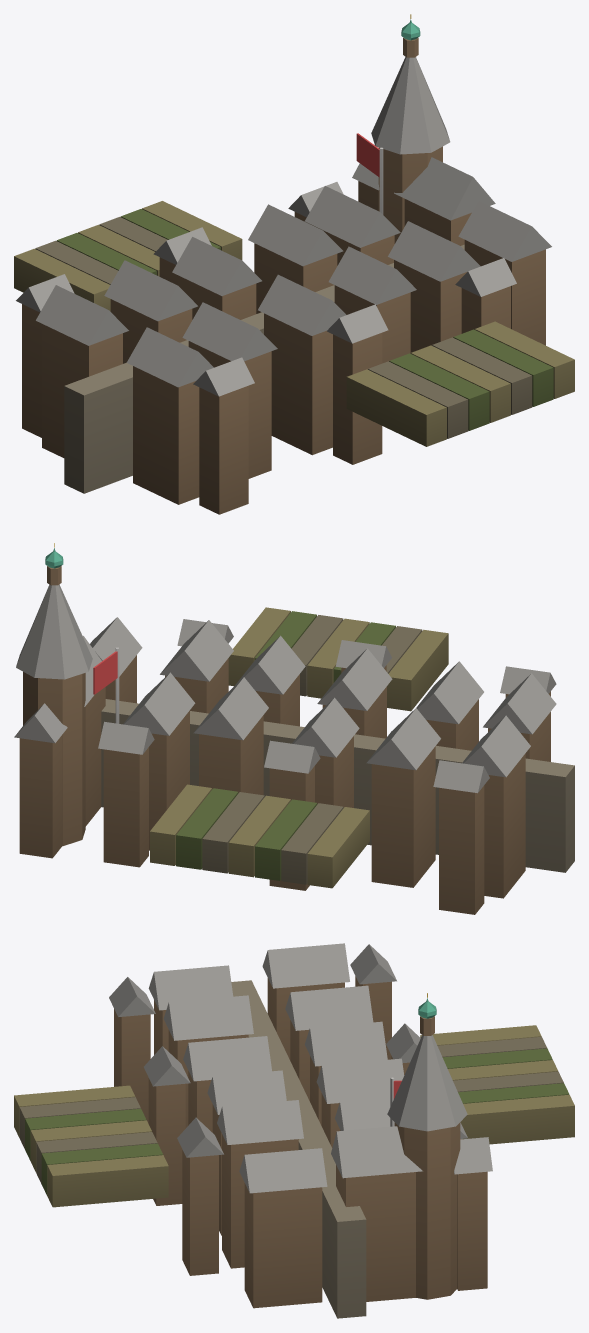
Rendered from village_rus_a.glb.
3 views of the same model, one above another, from view 1: azimuth 30°, elevation 25°; view 2: azimuth 150°, elevation 25°; view 3: azimuth 270°, elevation 25° (orthographic). The views are drawn at different scales.
Visible parts, largest first — view 1: village_rus_a; view 2: village_rus_a; view 3: village_rus_a.
Boxes of the visible parts, bbox=[...] form: village_rus_a: bbox=[14, 14, 574, 514]; village_rus_a: bbox=[14, 543, 574, 914]; village_rus_a: bbox=[14, 943, 574, 1318].
Bounding box in the file's own units: 1.93 × 1.09 × 1.89.
